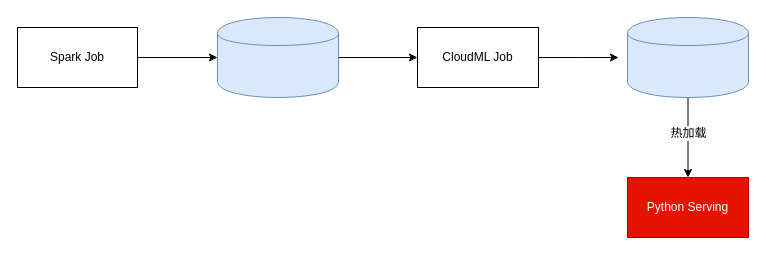
This 766x255 diagram has some shape labels left out. Here are the shapes that lost their labels. From the top down, the centre of each, then its label:
At point 277,57: "Vector".
At point 687,57: "Index".
